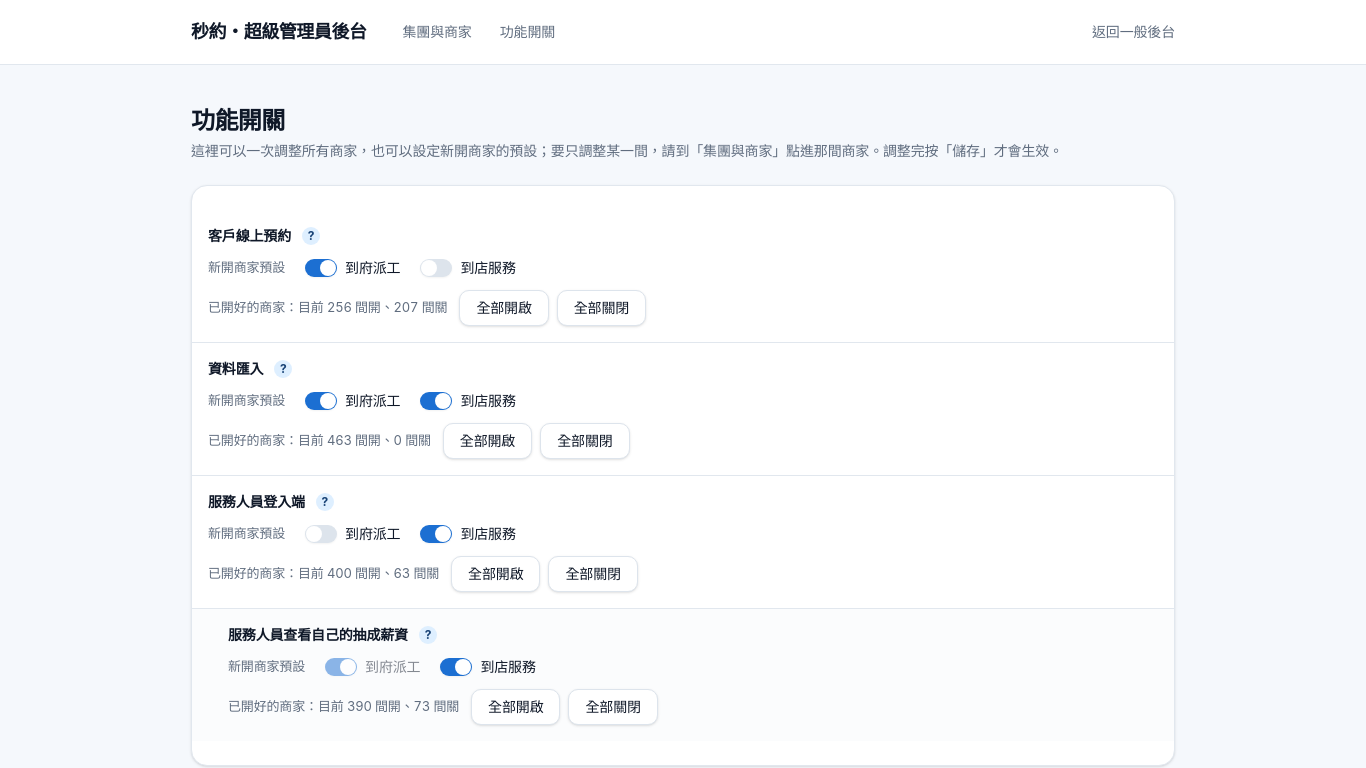
Test: 功能開關頁(IndustryPresetsPage,FG1-U01 / U02 / U08 + 第三輪) › 切開關不會馬上存;出現「尚未儲存變更」;主功能打開 ⇒ 細部功能預設跟著打開;放棄變更 ⇒ 回到原值
The width and height of the screenshot is (1366, 768).
Step 1. Click the switch with test id "feature-preset-switch-on_site_dispatch-staff_portal" → (321, 534), box top-left (305, 525), bottom-right (337, 543)
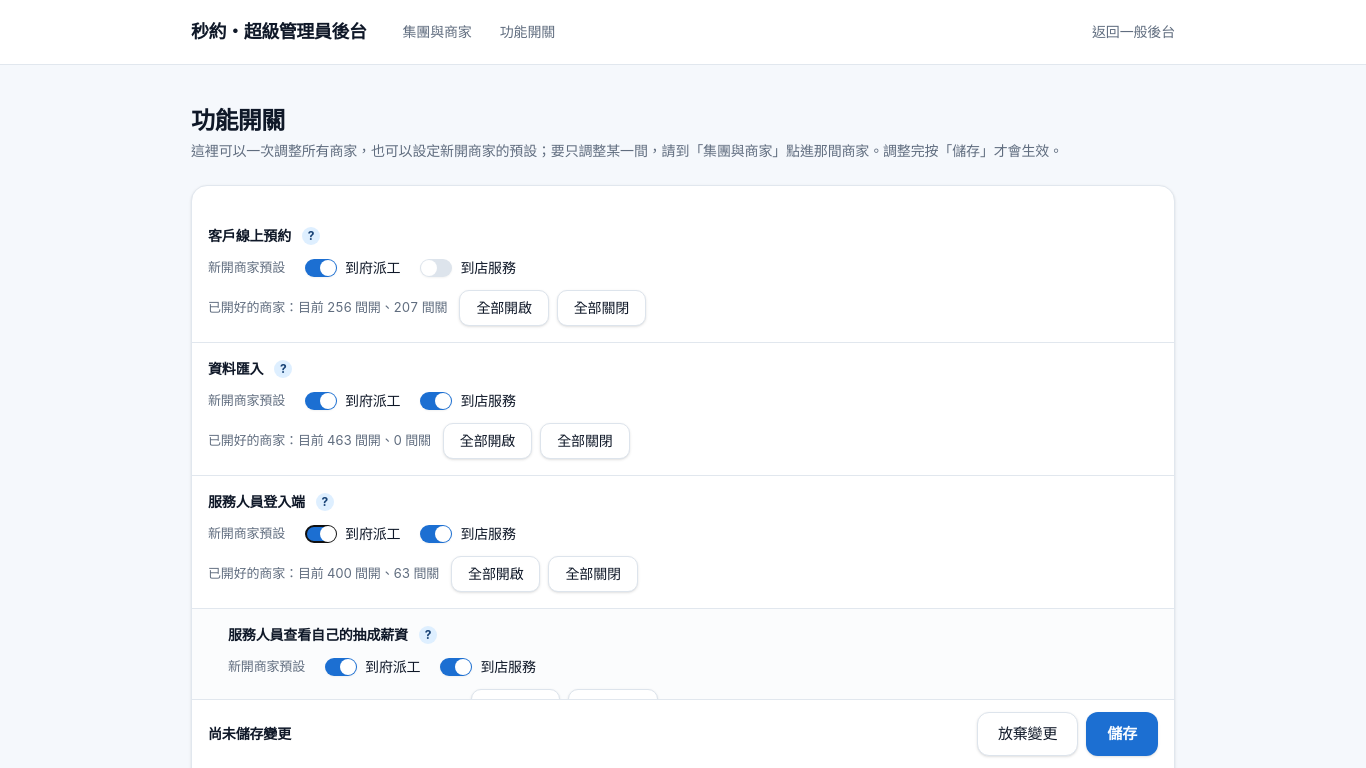
Expected: the element with test id "feature-presets-unsaved" shows "尚未儲存變更", top-left (208, 725), bottom-right (291, 742)
Expected: the switch with test id "feature-preset-switch-on_site_dispatch-staff_self_payroll" is enabled, top-left (325, 658), bottom-right (357, 676)
Step 2. Click the button "放棄變更" → (1028, 734), box top-left (977, 712), bottom-right (1078, 756)
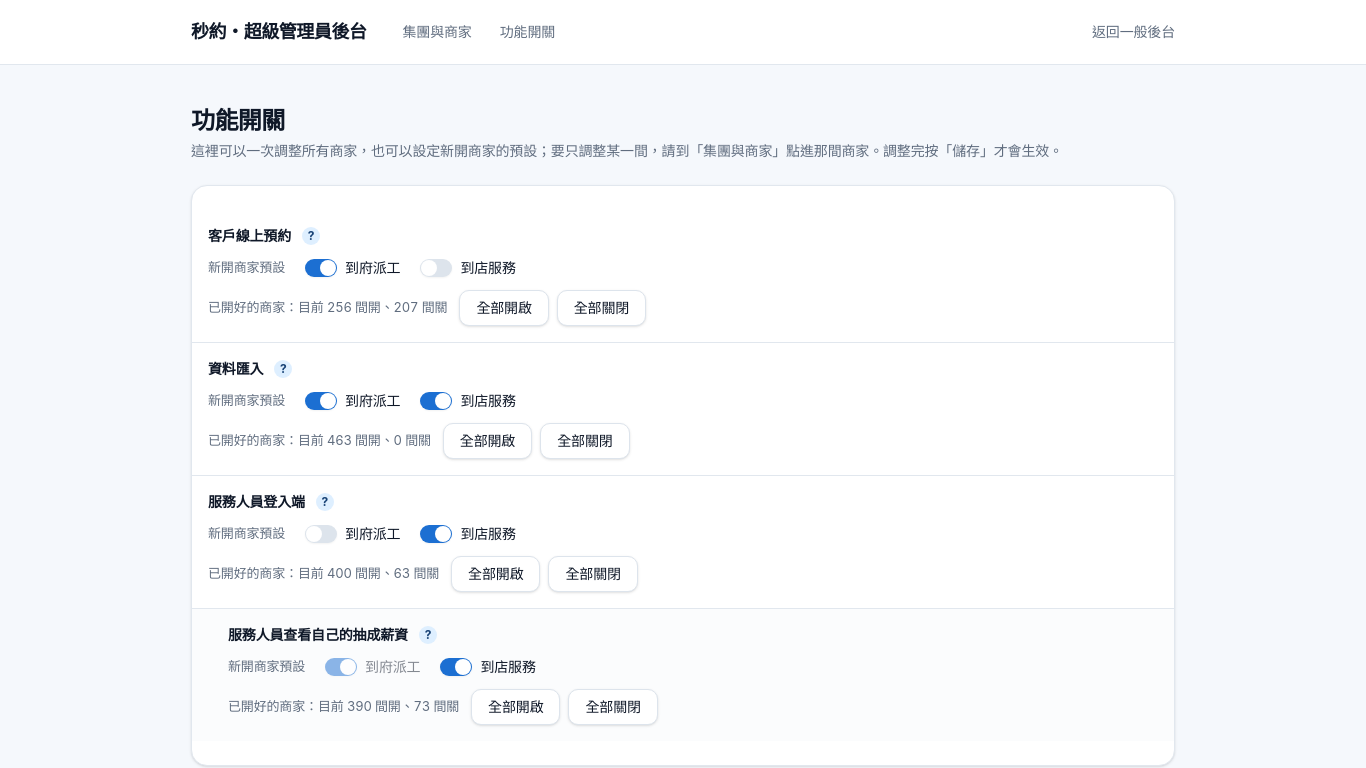
Expected: the element with test id "feature-presets-unsaved" is gone
